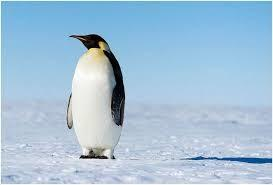emporer: (59, 24, 133, 165)
